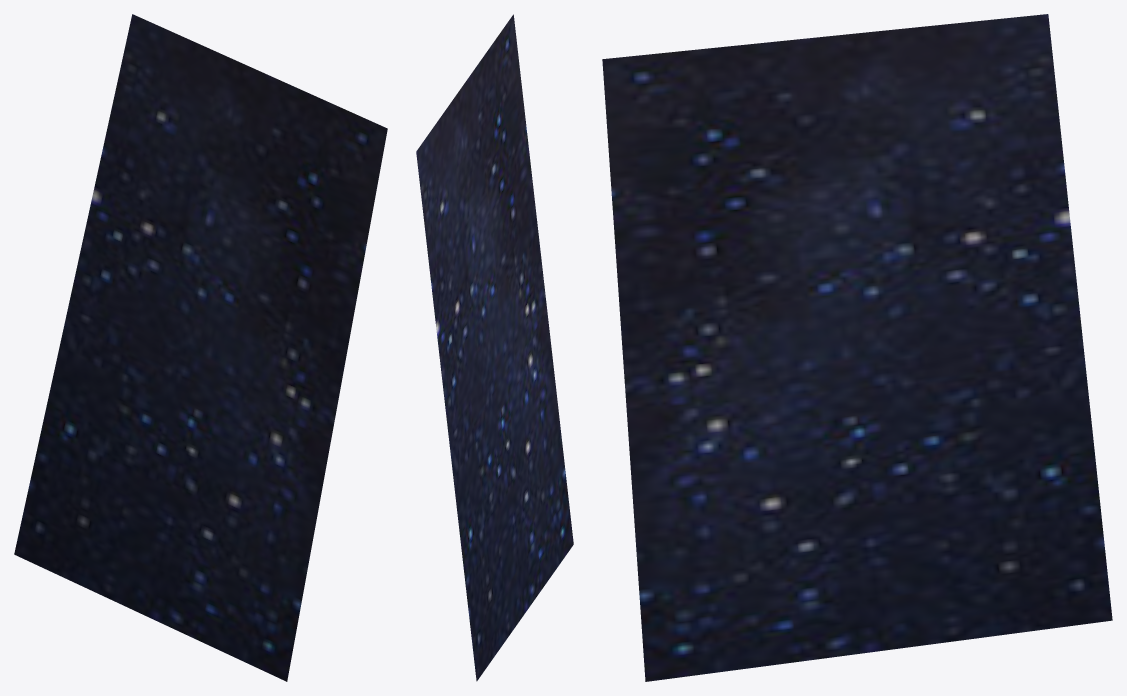
File: StarrySky02_Maincity_001_B.FBX
3 renders of one model, left to right at view 1: azimuth 30°, elevation 25°; view 2: azimuth 150°, elevation 25°; view 3: azimuth 270°, elevation 25°, orthographic. The views are drawn at different scales.
Parts seen in each view (by area): view 1: StarrySky02_Maincity_001_B; view 2: StarrySky02_Maincity_001_B; view 3: StarrySky02_Maincity_001_B.
Boxes of the visible parts, <box> form: StarrySky02_Maincity_001_B: <box>14,14,387,681</box>; StarrySky02_Maincity_001_B: <box>416,14,573,681</box>; StarrySky02_Maincity_001_B: <box>602,14,1112,681</box>.
Bounding box in the file's own units: 78.93 × 247 × 170.
Materials: 1 (1 with a texture image).
